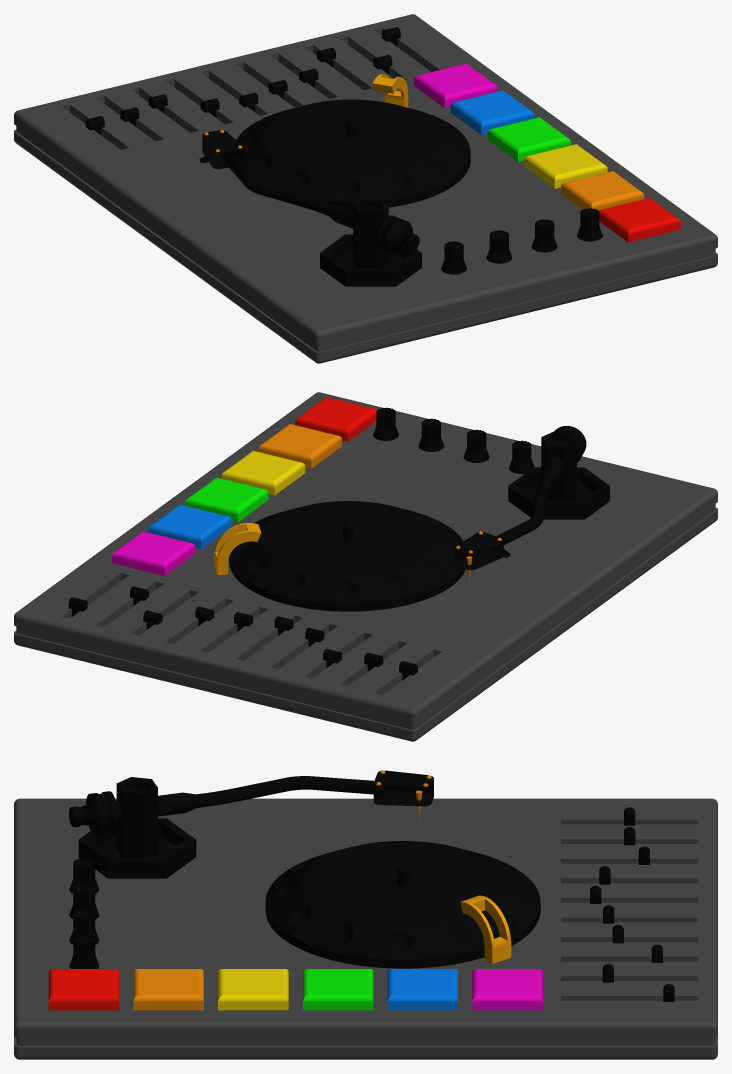
File: turntable-2610.glb
3 renders of one model, top to bottom at view 1: azimuth 30°, elevation 25°; view 2: azimuth 150°, elevation 25°; view 3: azimuth 270°, elevation 25°, orthographic. The views are drawn at different scales.
Visible parts, largest first — view 1: Cube, Cylinder, Cylinder.051, Cylinder.010_Cylinder.006, Cylinder.001, Cube.010, Cube.012, Cube.016, Cube.015, Cube.017, Cube.014, Cube.013 (+1 smaller); view 2: Cube, Cylinder, Cylinder.051, Cylinder.010_Cylinder.006, Cylinder.001, Cube.010, Cube.017, Cube.014, Cube.013, Cube.015, Cube.016, Cube.012 (+1 smaller); view 3: Cube, Cylinder, Cylinder.051, Cylinder.010_Cylinder.006, Cube.012, Cube.014, Cube.017, Cube.013, Cube.015, Cube.016, Cylinder.001, Cube.010 (+1 smaller).
Part boxes in pixels (bbox=[...]): Cube: bbox=[14, 14, 717, 363]; Cylinder: bbox=[236, 99, 470, 209]; Cylinder.051: bbox=[320, 198, 421, 286]; Cylinder.010_Cylinder.006: bbox=[199, 130, 419, 255]; Cylinder.001: bbox=[441, 208, 602, 274]; Cube.010: bbox=[85, 27, 400, 134]; Cube.012: bbox=[599, 198, 680, 242]; Cube.016: bbox=[450, 90, 534, 134]; Cube.015: bbox=[487, 117, 570, 161]; Cube.017: bbox=[414, 63, 497, 108]; Cube.014: bbox=[524, 144, 607, 188]; Cube.013: bbox=[561, 171, 644, 210]; Cube: bbox=[14, 392, 717, 741]; Cylinder: bbox=[229, 501, 465, 611]; Cylinder.051: bbox=[508, 431, 609, 519]; Cylinder.010_Cylinder.006: bbox=[454, 426, 586, 570]; Cylinder.001: bbox=[373, 407, 534, 473]; Cube.010: bbox=[68, 586, 417, 680]; Cube.017: bbox=[111, 531, 195, 575]; Cube.014: bbox=[221, 451, 305, 495]; Cube.013: bbox=[258, 424, 341, 468]; Cube.015: bbox=[185, 477, 268, 522]; Cube.016: bbox=[148, 504, 231, 549]; Cube.012: bbox=[295, 397, 376, 441]; Cube: bbox=[14, 798, 717, 1059]; Cylinder: bbox=[265, 841, 540, 968]; Cylinder.051: bbox=[78, 777, 196, 878]; Cylinder.010_Cylinder.006: bbox=[68, 770, 433, 835]; Cube.012: bbox=[48, 969, 119, 1010]; Cube.014: bbox=[218, 969, 288, 1010]; Cube.017: bbox=[472, 969, 542, 1010]; Cube.013: bbox=[133, 969, 203, 1010]; Cube.015: bbox=[303, 969, 373, 1010]; Cube.016: bbox=[387, 969, 457, 1010]; Cylinder.001: bbox=[69, 858, 99, 968]; Cube.010: bbox=[590, 807, 674, 1001].
Size of the model in its own units: 9.13 by 2.06 by 11.97.
